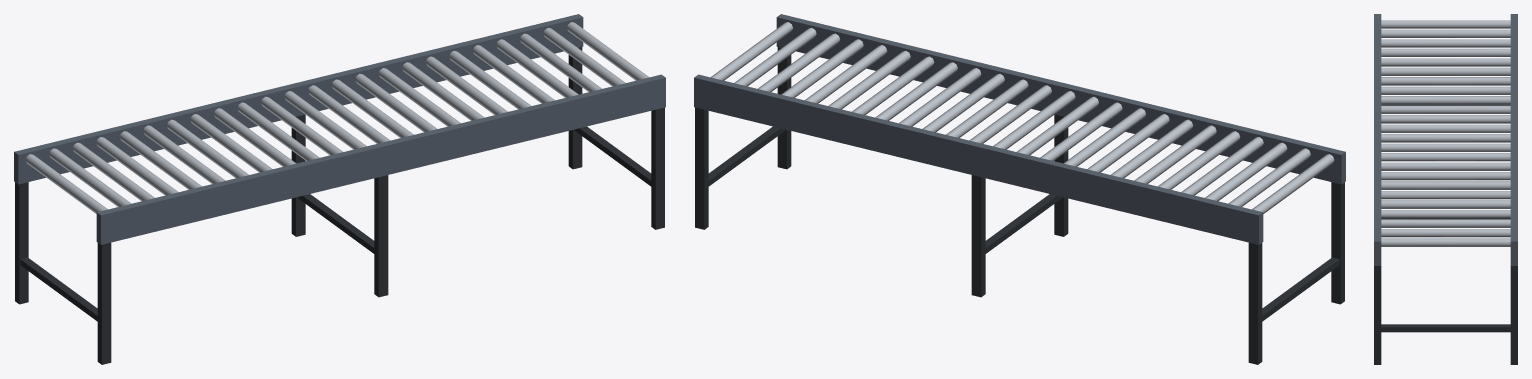
Rendered from esteira.glb.
3 renders of one model, left to right at view 1: azimuth 30°, elevation 25°; view 2: azimuth 150°, elevation 25°; view 3: azimuth 270°, elevation 25°, orthographic. The views are drawn at different scales.
Visible parts, largest first — view 1: estrutura, rolos; view 2: estrutura, rolos; view 3: rolos, estrutura.
Part boxes in pixels (x1,y1,x2,y2): estrutura: (14, 14, 665, 364); rolos: (25, 22, 648, 213); estrutura: (694, 14, 1345, 364); rolos: (711, 22, 1334, 213); rolos: (1381, 20, 1510, 246); estrutura: (1374, 14, 1517, 364).
Bounding box in the file's own units: 3 × 0.76 × 0.8.
